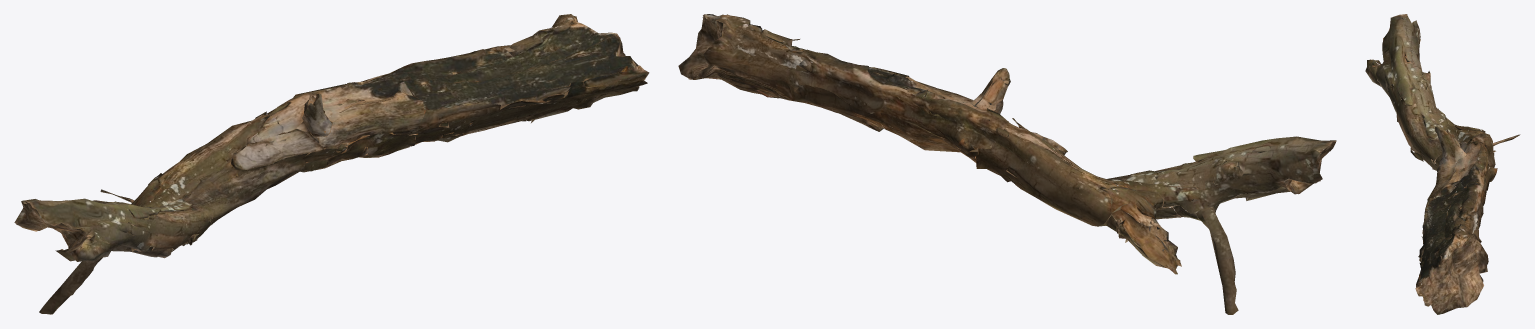
The model's file is SM_Deadwood.glb.
3 renders of one model, left to right at view 1: azimuth 30°, elevation 25°; view 2: azimuth 150°, elevation 25°; view 3: azimuth 270°, elevation 25°, orthographic. The views are drawn at different scales.
Visible parts, largest first — view 1: SM_Deadwood; view 2: SM_Deadwood; view 3: SM_Deadwood.
Boxes of the visible parts, x1=… form: SM_Deadwood: x1=14, y1=14, x2=649, y2=314; SM_Deadwood: x1=678, y1=14, x2=1336, y2=314; SM_Deadwood: x1=1365, y1=14, x2=1520, y2=314.
Size of the model in its own units: 2.92 by 0.7606 by 0.7535.
Materials: 1 (1 with a texture image).
